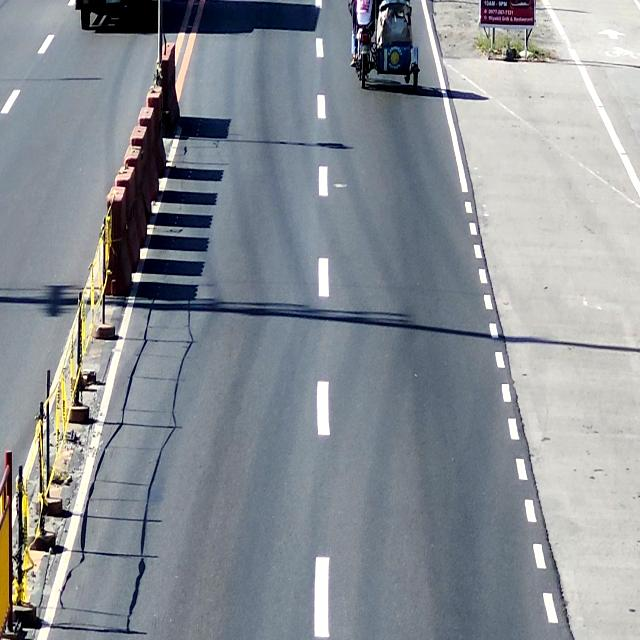Tricycle: (352, 0, 422, 85)
